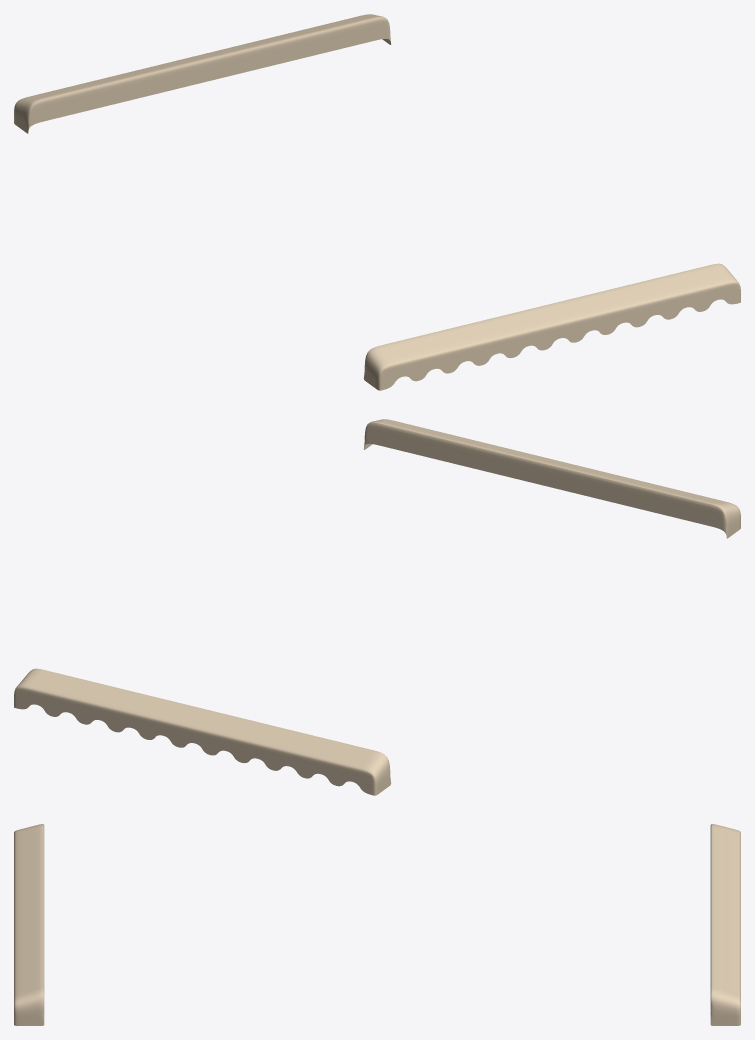
File: FairyTale306.gltf
The picture shows the model from 3 angles, top to bottom: view 1: azimuth 30°, elevation 25°; view 2: azimuth 150°, elevation 25°; view 3: azimuth 270°, elevation 25°; orthographic projection.
Parts seen in each view (by area): view 1: HouseMD02_Cloth; view 2: HouseMD02_Cloth; view 3: HouseMD02_Cloth.
Part boxes in pixels (x1,y1,x2,y2): HouseMD02_Cloth: [14, 14, 740, 390]; HouseMD02_Cloth: [14, 419, 740, 795]; HouseMD02_Cloth: [14, 824, 740, 1025].
Size of the model in its own units: 2.54 by 0.2061 by 4.44.
